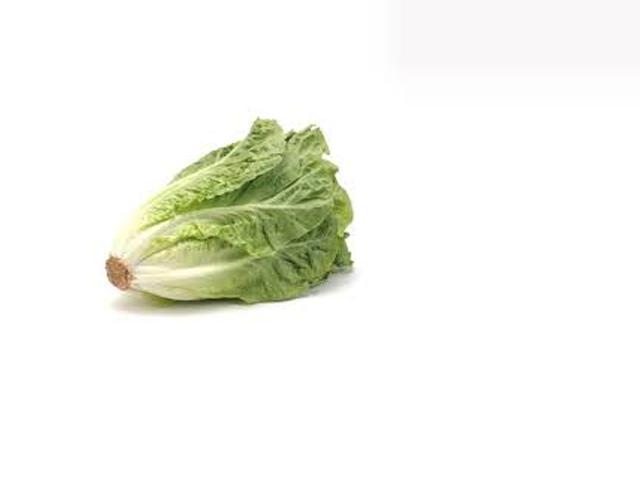lettuce: (92, 117, 351, 309)
